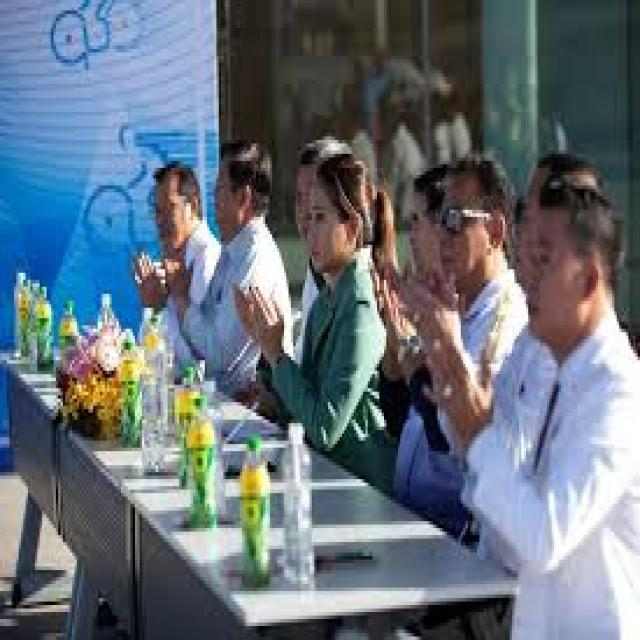tra xanh khong do: (230, 427, 277, 590), (187, 399, 219, 533), (116, 338, 145, 452), (35, 283, 57, 370)
